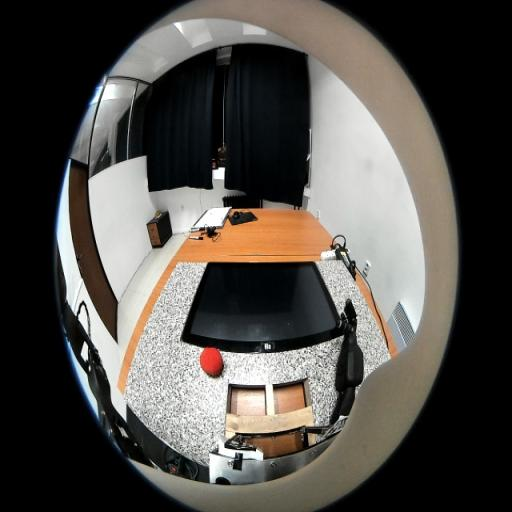RightHand: (345, 318, 357, 335)
Tomato: (200, 347, 223, 376)
